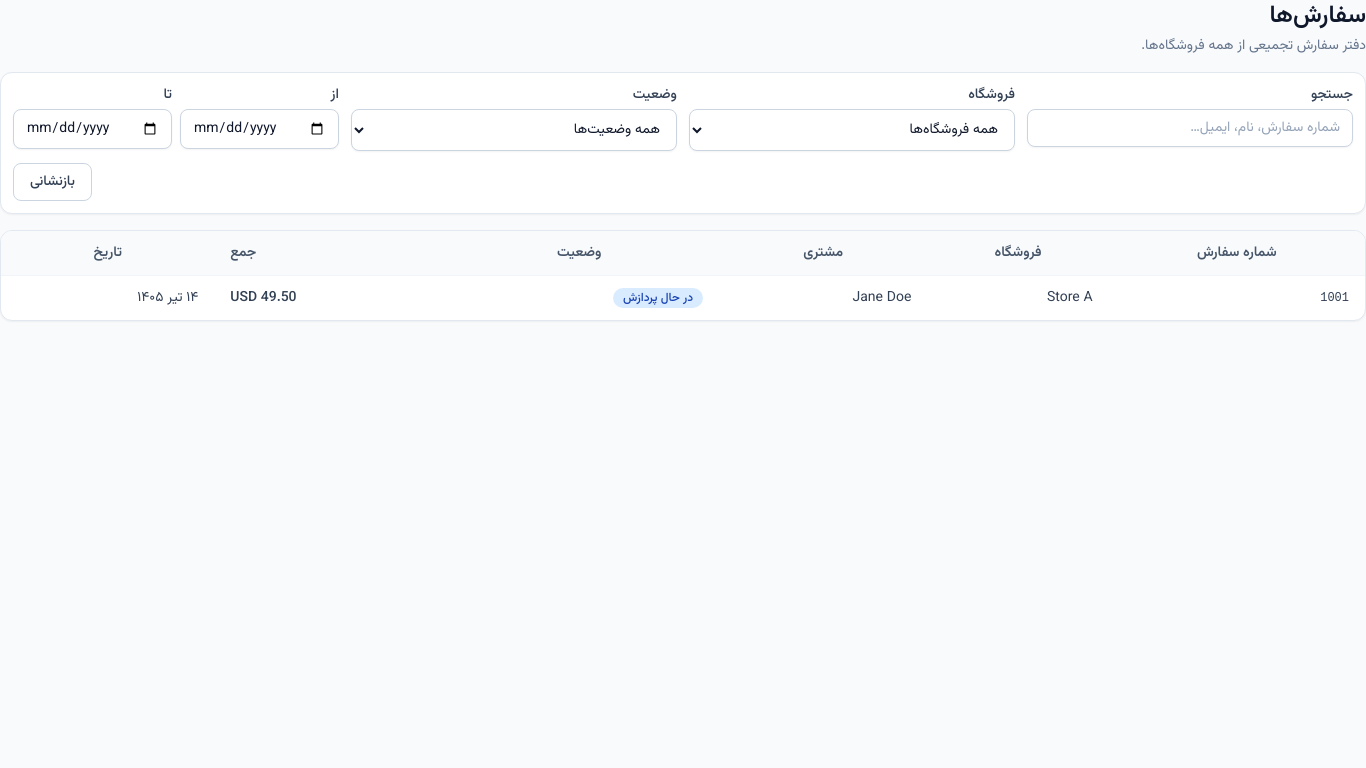
Test: Orders list page › opens a detail modal with line items when a row is clicked
Click the text "1001": (1237, 298) top-left (1109, 276), bottom-right (1365, 320)
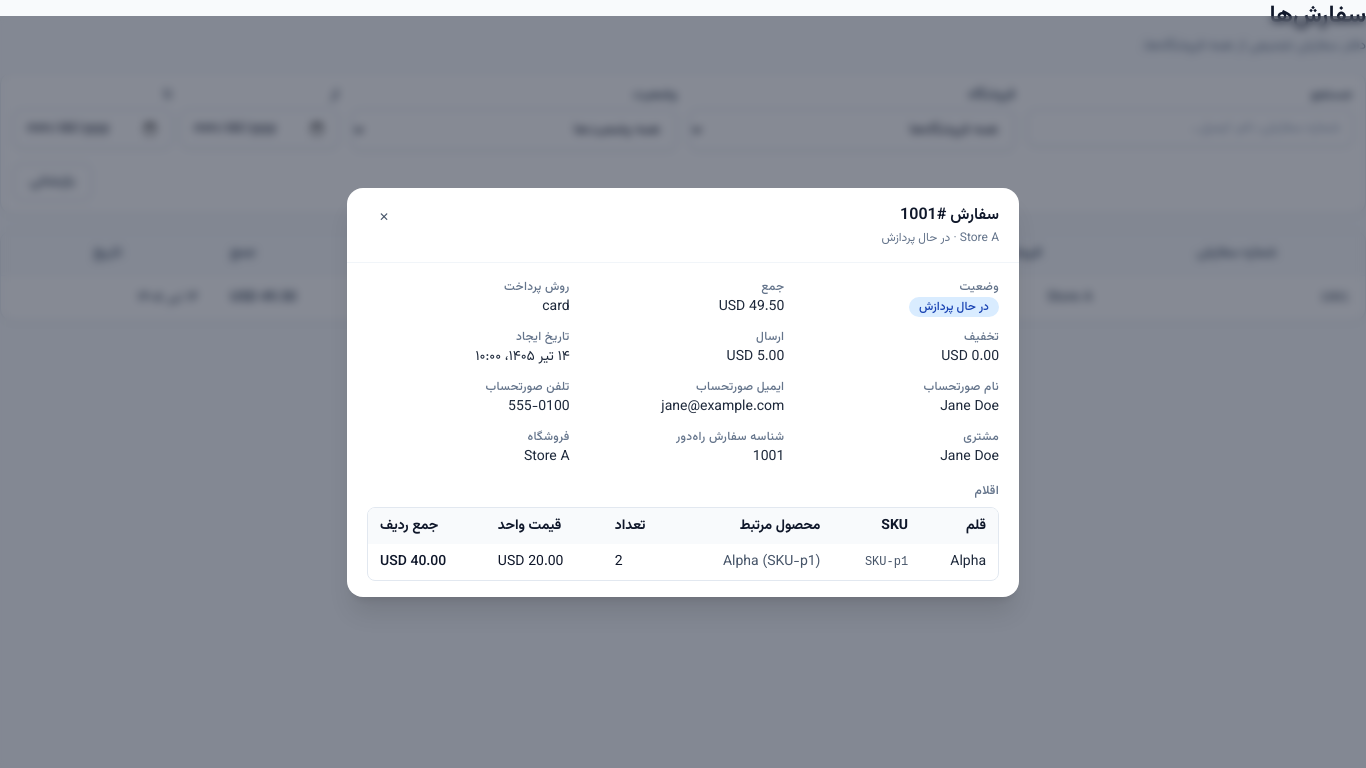
Expected: the heading "اقلام" is shown, top-left (974, 482), bottom-right (999, 500)
Expected: the text "Alpha" is shown, top-left (920, 544), bottom-right (998, 580)
Expected: the text "SKU-p1" is shown, top-left (832, 544), bottom-right (920, 580)
